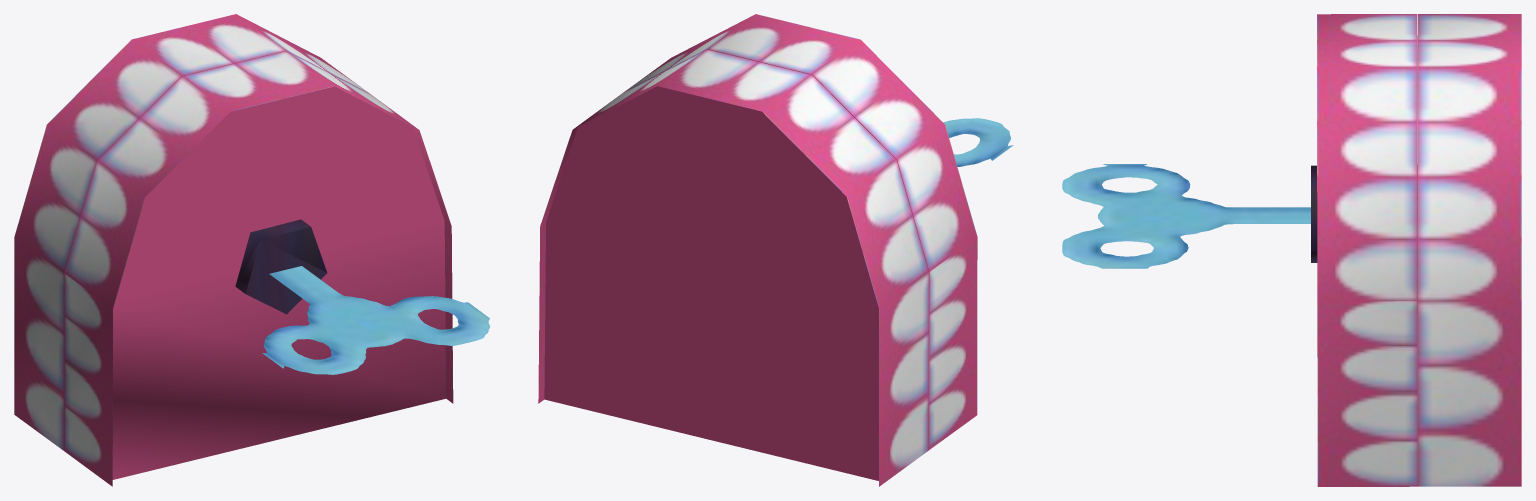
The model's file is teeth.glb.
The picture shows the model from 3 angles, left to right: view 1: azimuth 30°, elevation 25°; view 2: azimuth 150°, elevation 25°; view 3: azimuth 270°, elevation 25°; orthographic projection. The views are drawn at different scales.
Visible parts, largest first — view 1: joint_upper_con, teeth; view 2: teeth, joint_upper_con; view 3: joint_upper_con, teeth.
Part boxes in pixels (<box>): joint_upper_con: <box>64,51,490,486</box>; teeth: <box>14,14,369,451</box>; teeth: <box>538,49,928,486</box>; joint_upper_con: <box>623,14,1013,449</box>; joint_upper_con: <box>1062,14,1417,486</box>; teeth: <box>1417,14,1521,486</box>.
Size of the model in its own units: 0.25 by 0.2434 by 0.2816.
4 materials, 4 textured.
